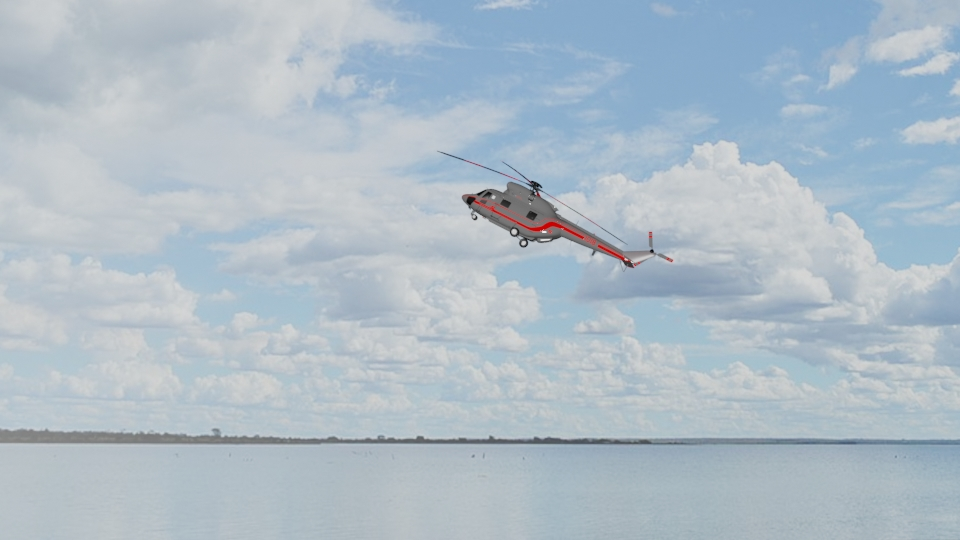heli: (464, 167, 675, 271)
